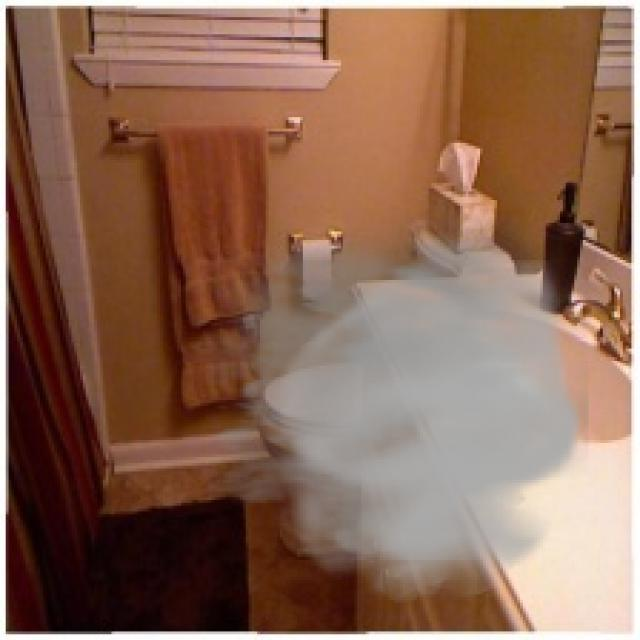smoke: (166, 208, 588, 603)
